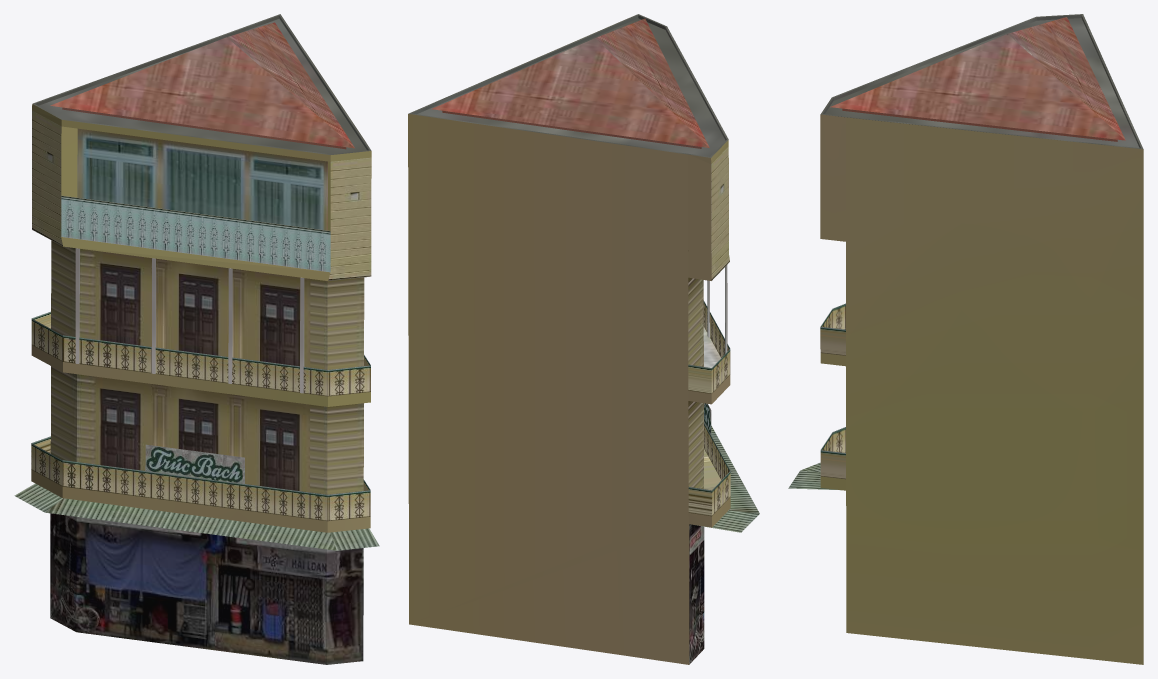
3 views of the same model, side by side, from view 1: azimuth 30°, elevation 25°; view 2: azimuth 150°, elevation 25°; view 3: azimuth 270°, elevation 25° (orthographic). The views are drawn at different scales.
Visible parts, largest first — view 1: HN993___Huyen_LinhHai_LoanTrucBachParamount_Beer; view 2: HN993___Huyen_LinhHai_LoanTrucBachParamount_Beer; view 3: HN993___Huyen_LinhHai_LoanTrucBachParamount_Beer.
Boxes of the visible parts, x1=… form: HN993___Huyen_LinhHai_LoanTrucBachParamount_Beer: x1=14, y1=14, x2=379, y2=664; HN993___Huyen_LinhHai_LoanTrucBachParamount_Beer: x1=408, y1=14, x2=759, y2=664; HN993___Huyen_LinhHai_LoanTrucBachParamount_Beer: x1=788, y1=14, x2=1143, y2=664.
Bounding box in the file's own units: 8.83 × 16.08 × 9.05.
1 material, 1 textured.
